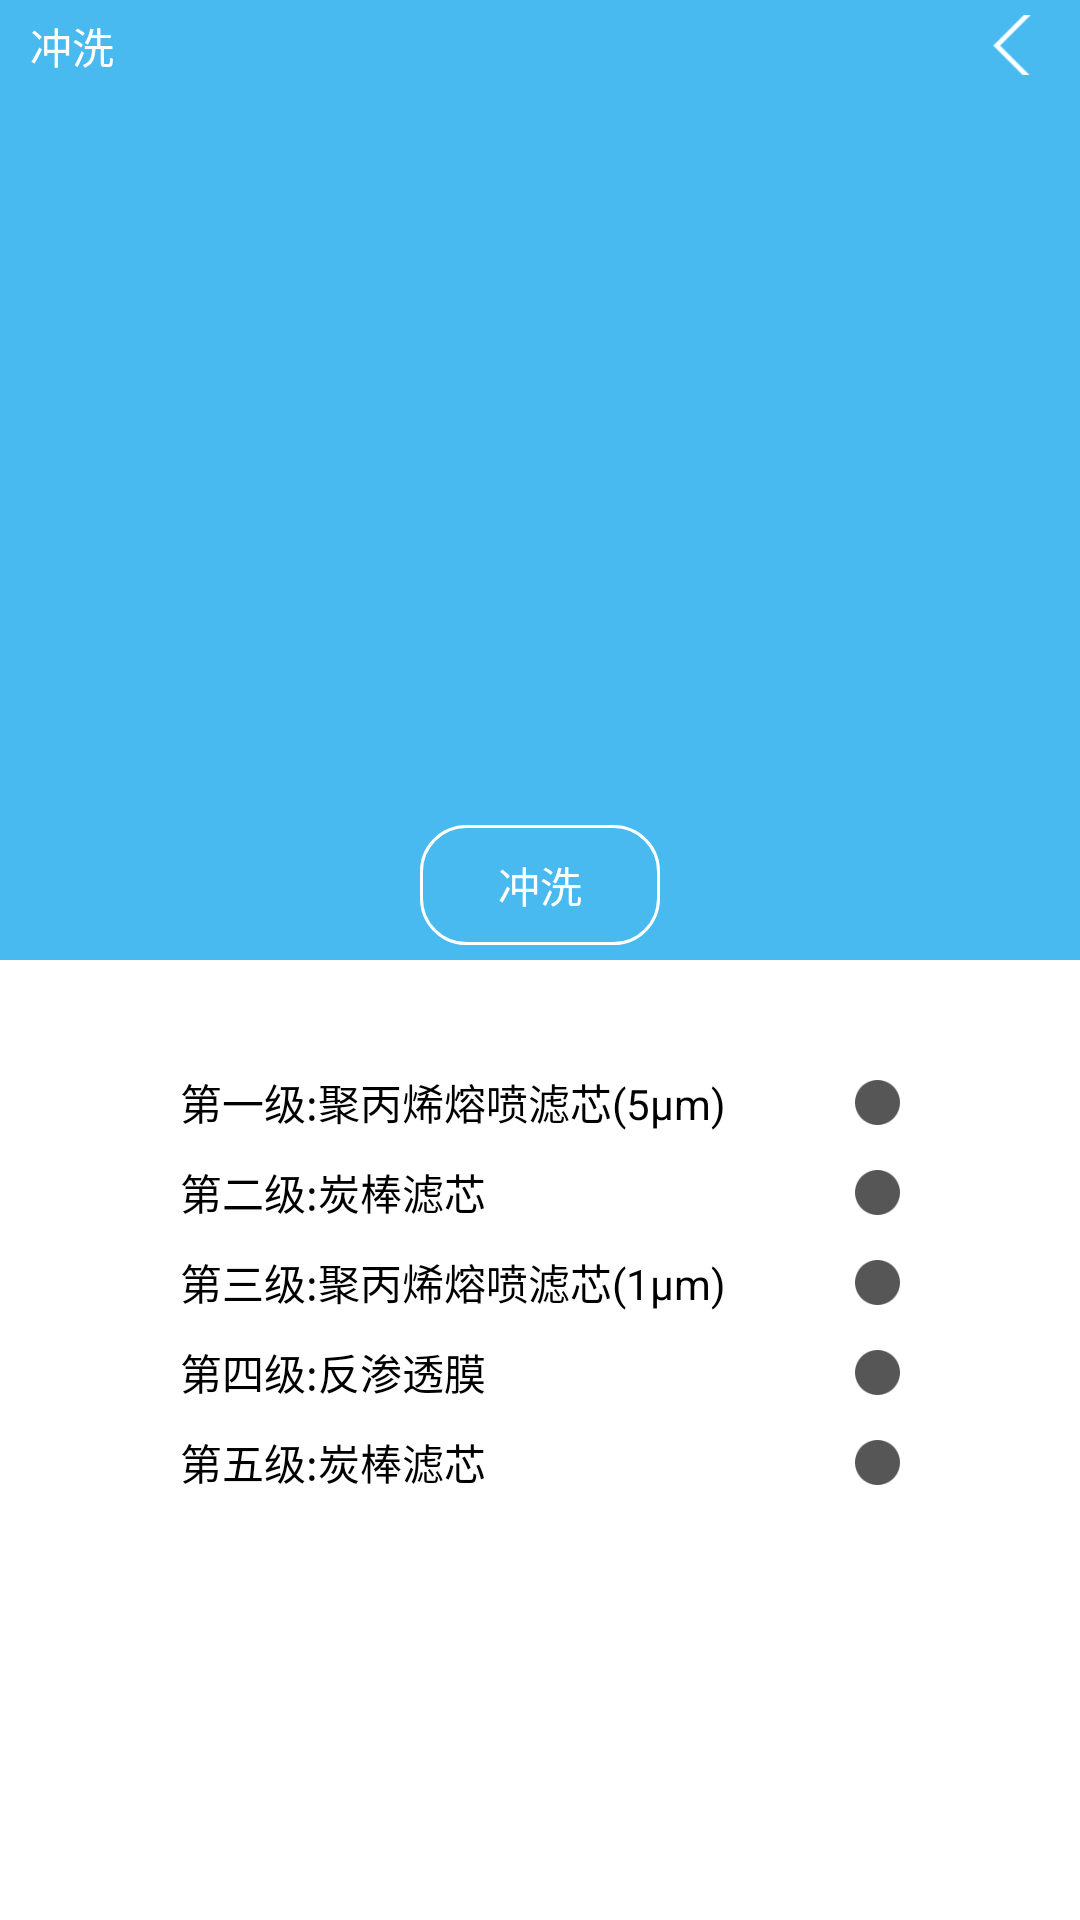

Named icons in this screenshot (1080px×1920px) and their centers, point (x, y):
jiantou: point (1012, 45)
